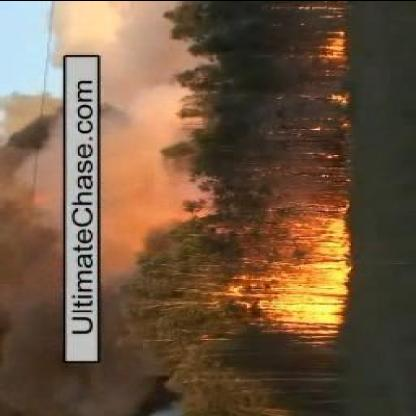-: (11, 202, 57, 358)
foggia-v2-map80-epoch100 - v1 4323: (262, 276, 346, 316)
